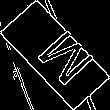M_SW: (20, 21, 90, 89)
